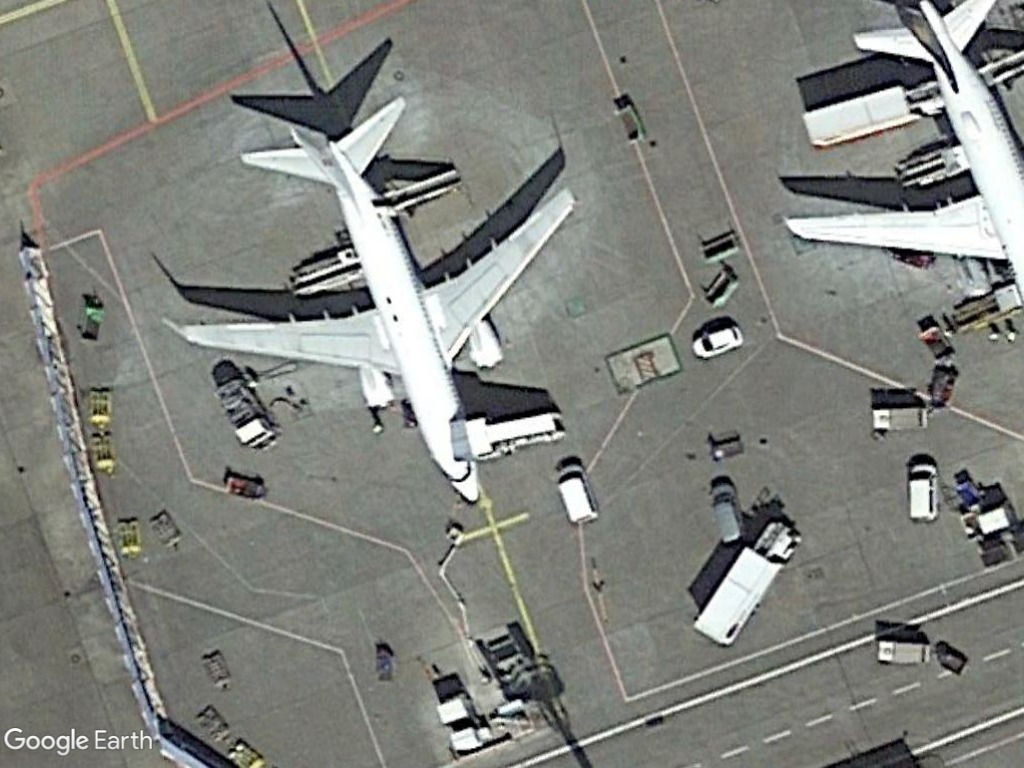airliner: (167, 91, 579, 511)
car: (690, 324, 744, 361)
stairtruck: (382, 162, 463, 216)
truck: (688, 519, 803, 651)
van: (550, 459, 601, 527), (902, 457, 939, 524)
